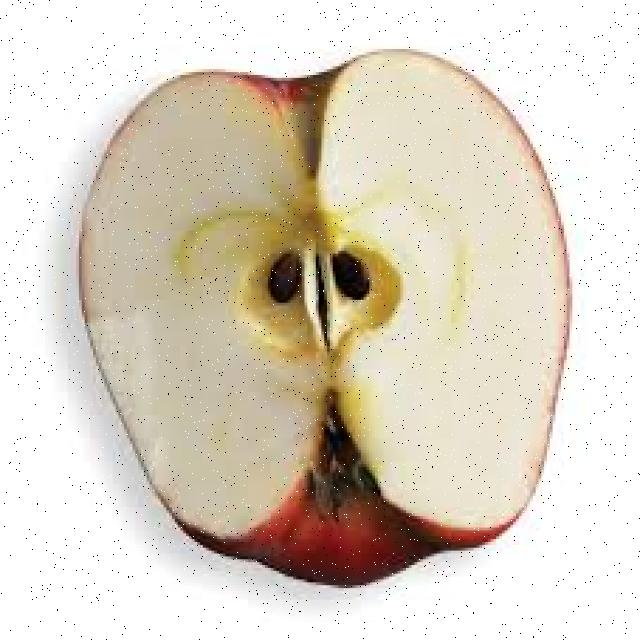Apple: (80, 47, 570, 587)
